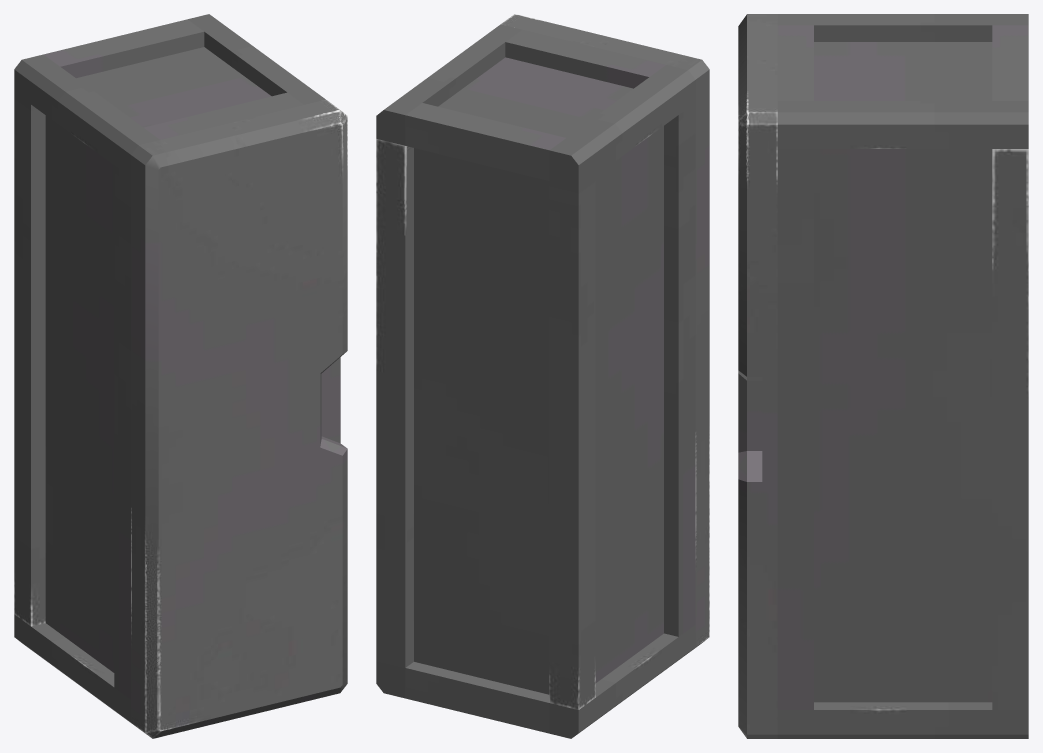
File: Cont_Locker_Static.glb
3 renders of one model, left to right at view 1: azimuth 30°, elevation 25°; view 2: azimuth 150°, elevation 25°; view 3: azimuth 270°, elevation 25°, orthographic. The views are drawn at different scales.
Visible parts, largest first — view 1: Cont_Locker_Static; view 2: Cont_Locker_Static; view 3: Cont_Locker_Static.
Part boxes in pixels (<box>): Cont_Locker_Static: <box>14,14,347,738</box>; Cont_Locker_Static: <box>376,14,709,738</box>; Cont_Locker_Static: <box>738,14,1028,738</box>.
Size of the model in its own units: 0.7266 by 2 by 0.8404.
Materials: 1 (1 with a texture image).
